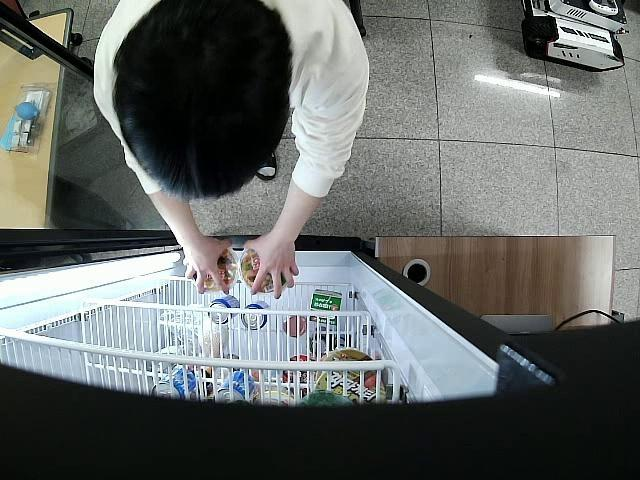09_yukGaeJang: (194, 249, 238, 292), (242, 249, 284, 293)
